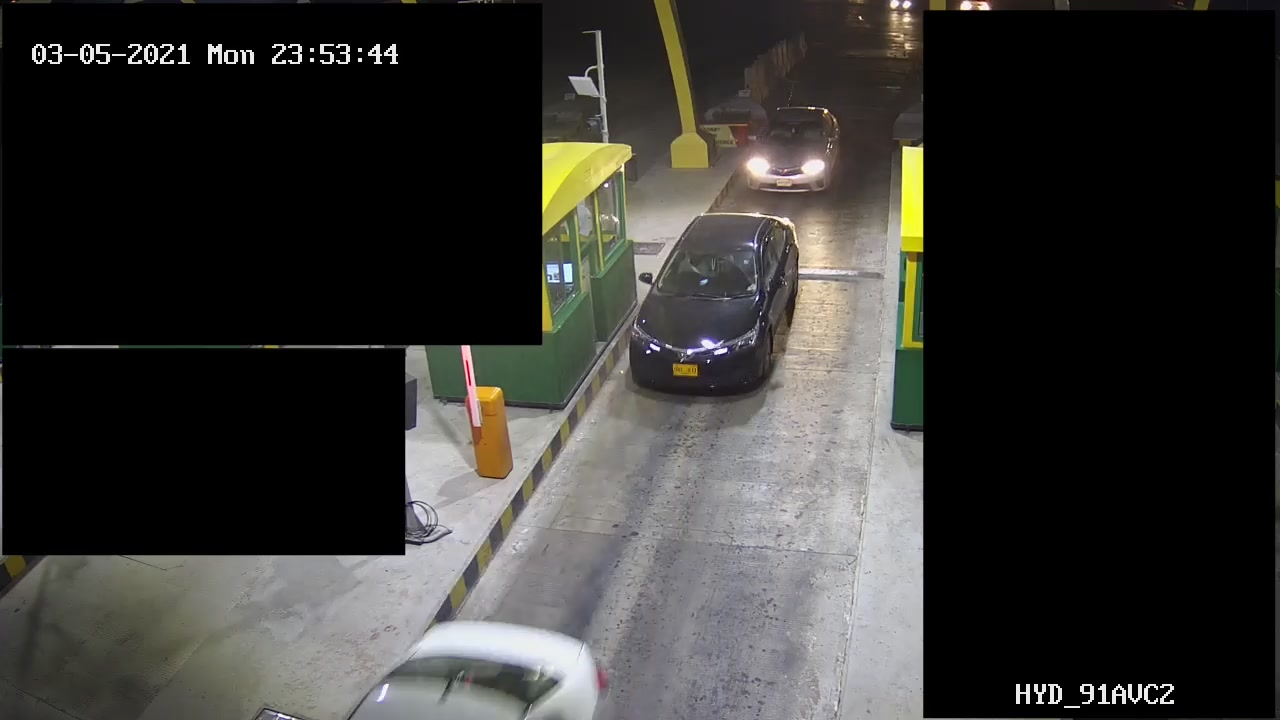F1: (628, 208, 808, 412)
